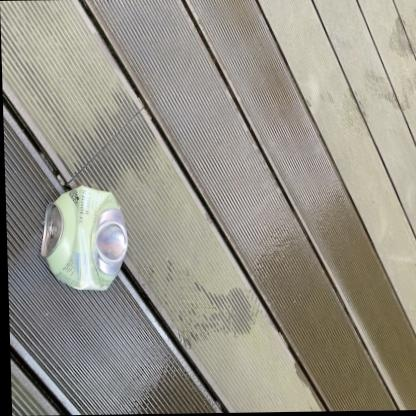trash: (41, 186, 127, 289)
